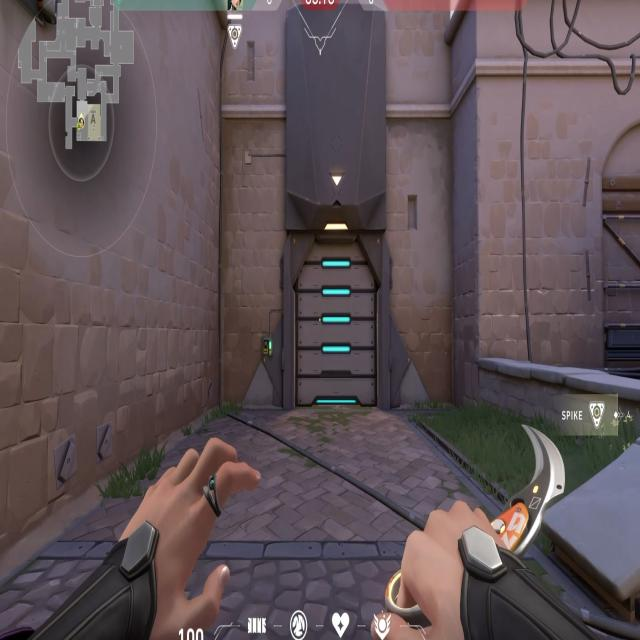A_Door: (281, 222, 389, 416)
